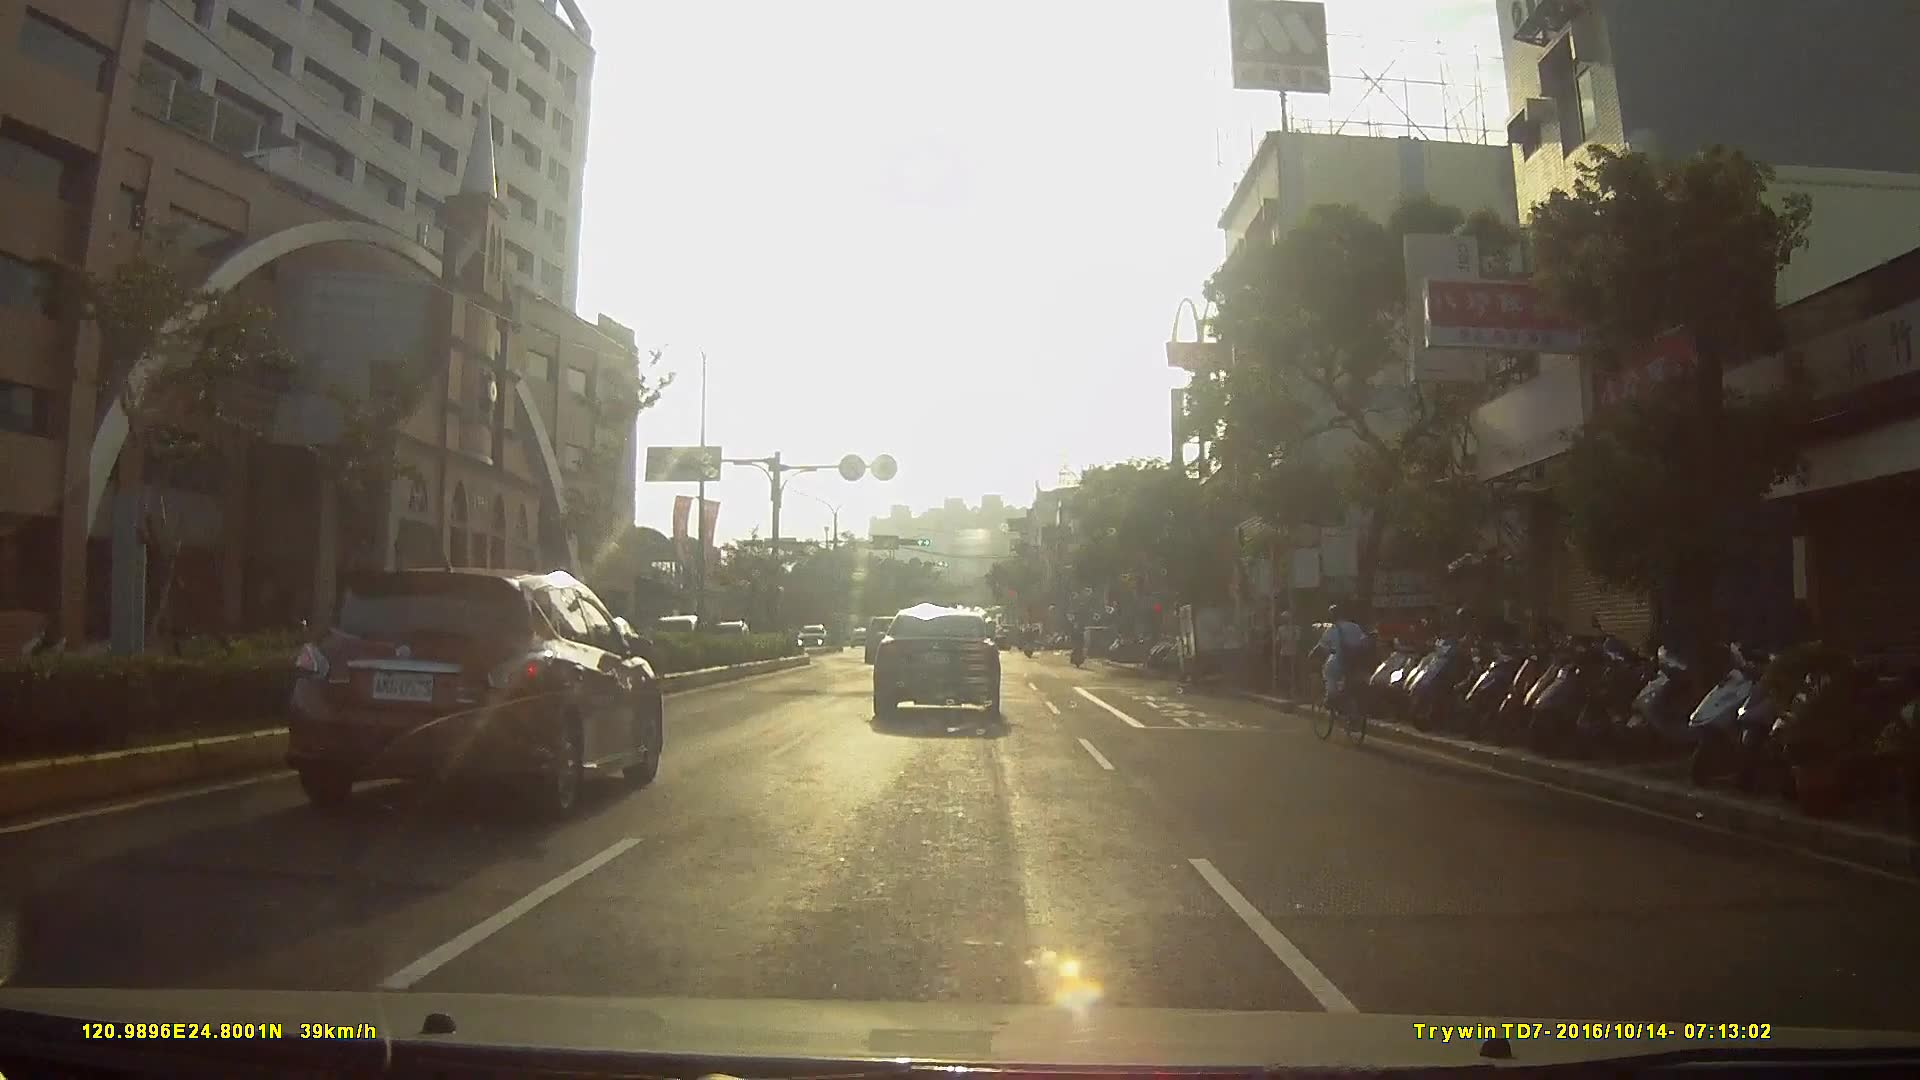pedestrian: (1275, 614, 1310, 704)
rider: (1310, 607, 1381, 747)
vehicle: (277, 563, 672, 821), (866, 607, 1016, 731), (1173, 598, 1262, 687), (763, 607, 822, 662), (785, 622, 836, 659)
